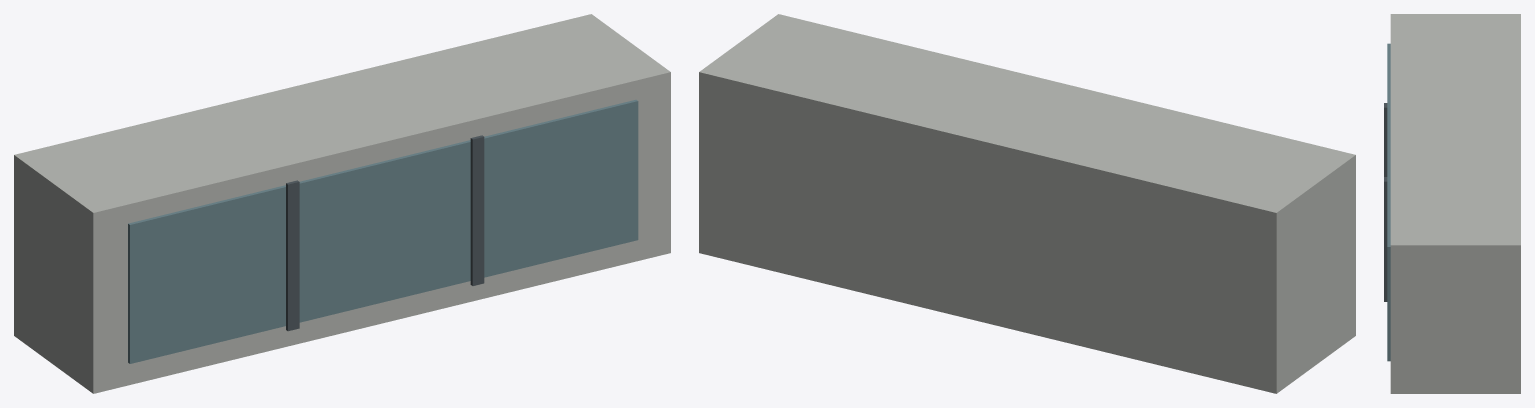
Rendered from chiller_case.glb.
3 views of the same model, side by side, from view 1: azimuth 30°, elevation 25°; view 2: azimuth 150°, elevation 25°; view 3: azimuth 270°, elevation 25° (orthographic). The views are drawn at different scales.
Visible parts, largest first — view 1: chiller_case; view 2: chiller_case; view 3: chiller_case.
Part boxes in pixels (x1,y1,x2,y2): chiller_case: [14, 14, 670, 393]; chiller_case: [699, 14, 1355, 393]; chiller_case: [1384, 14, 1520, 393].
Size of the model in its own units: 3.84 by 1.15 by 0.96.
